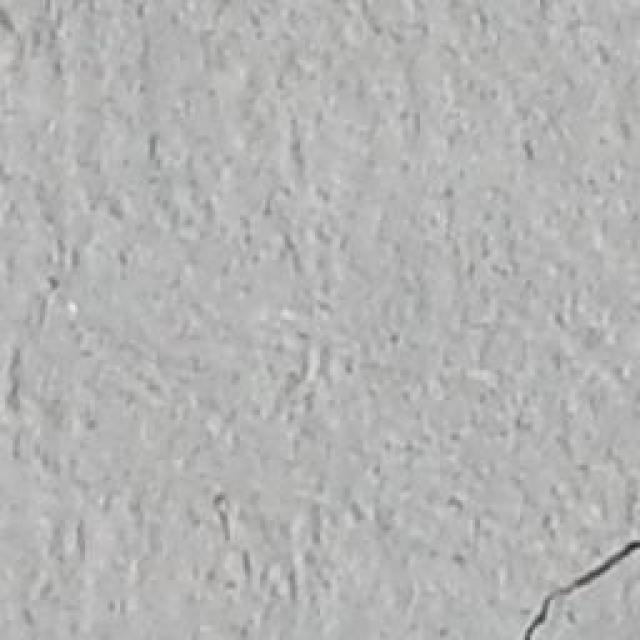concrete-crack: (509, 532, 640, 640)
